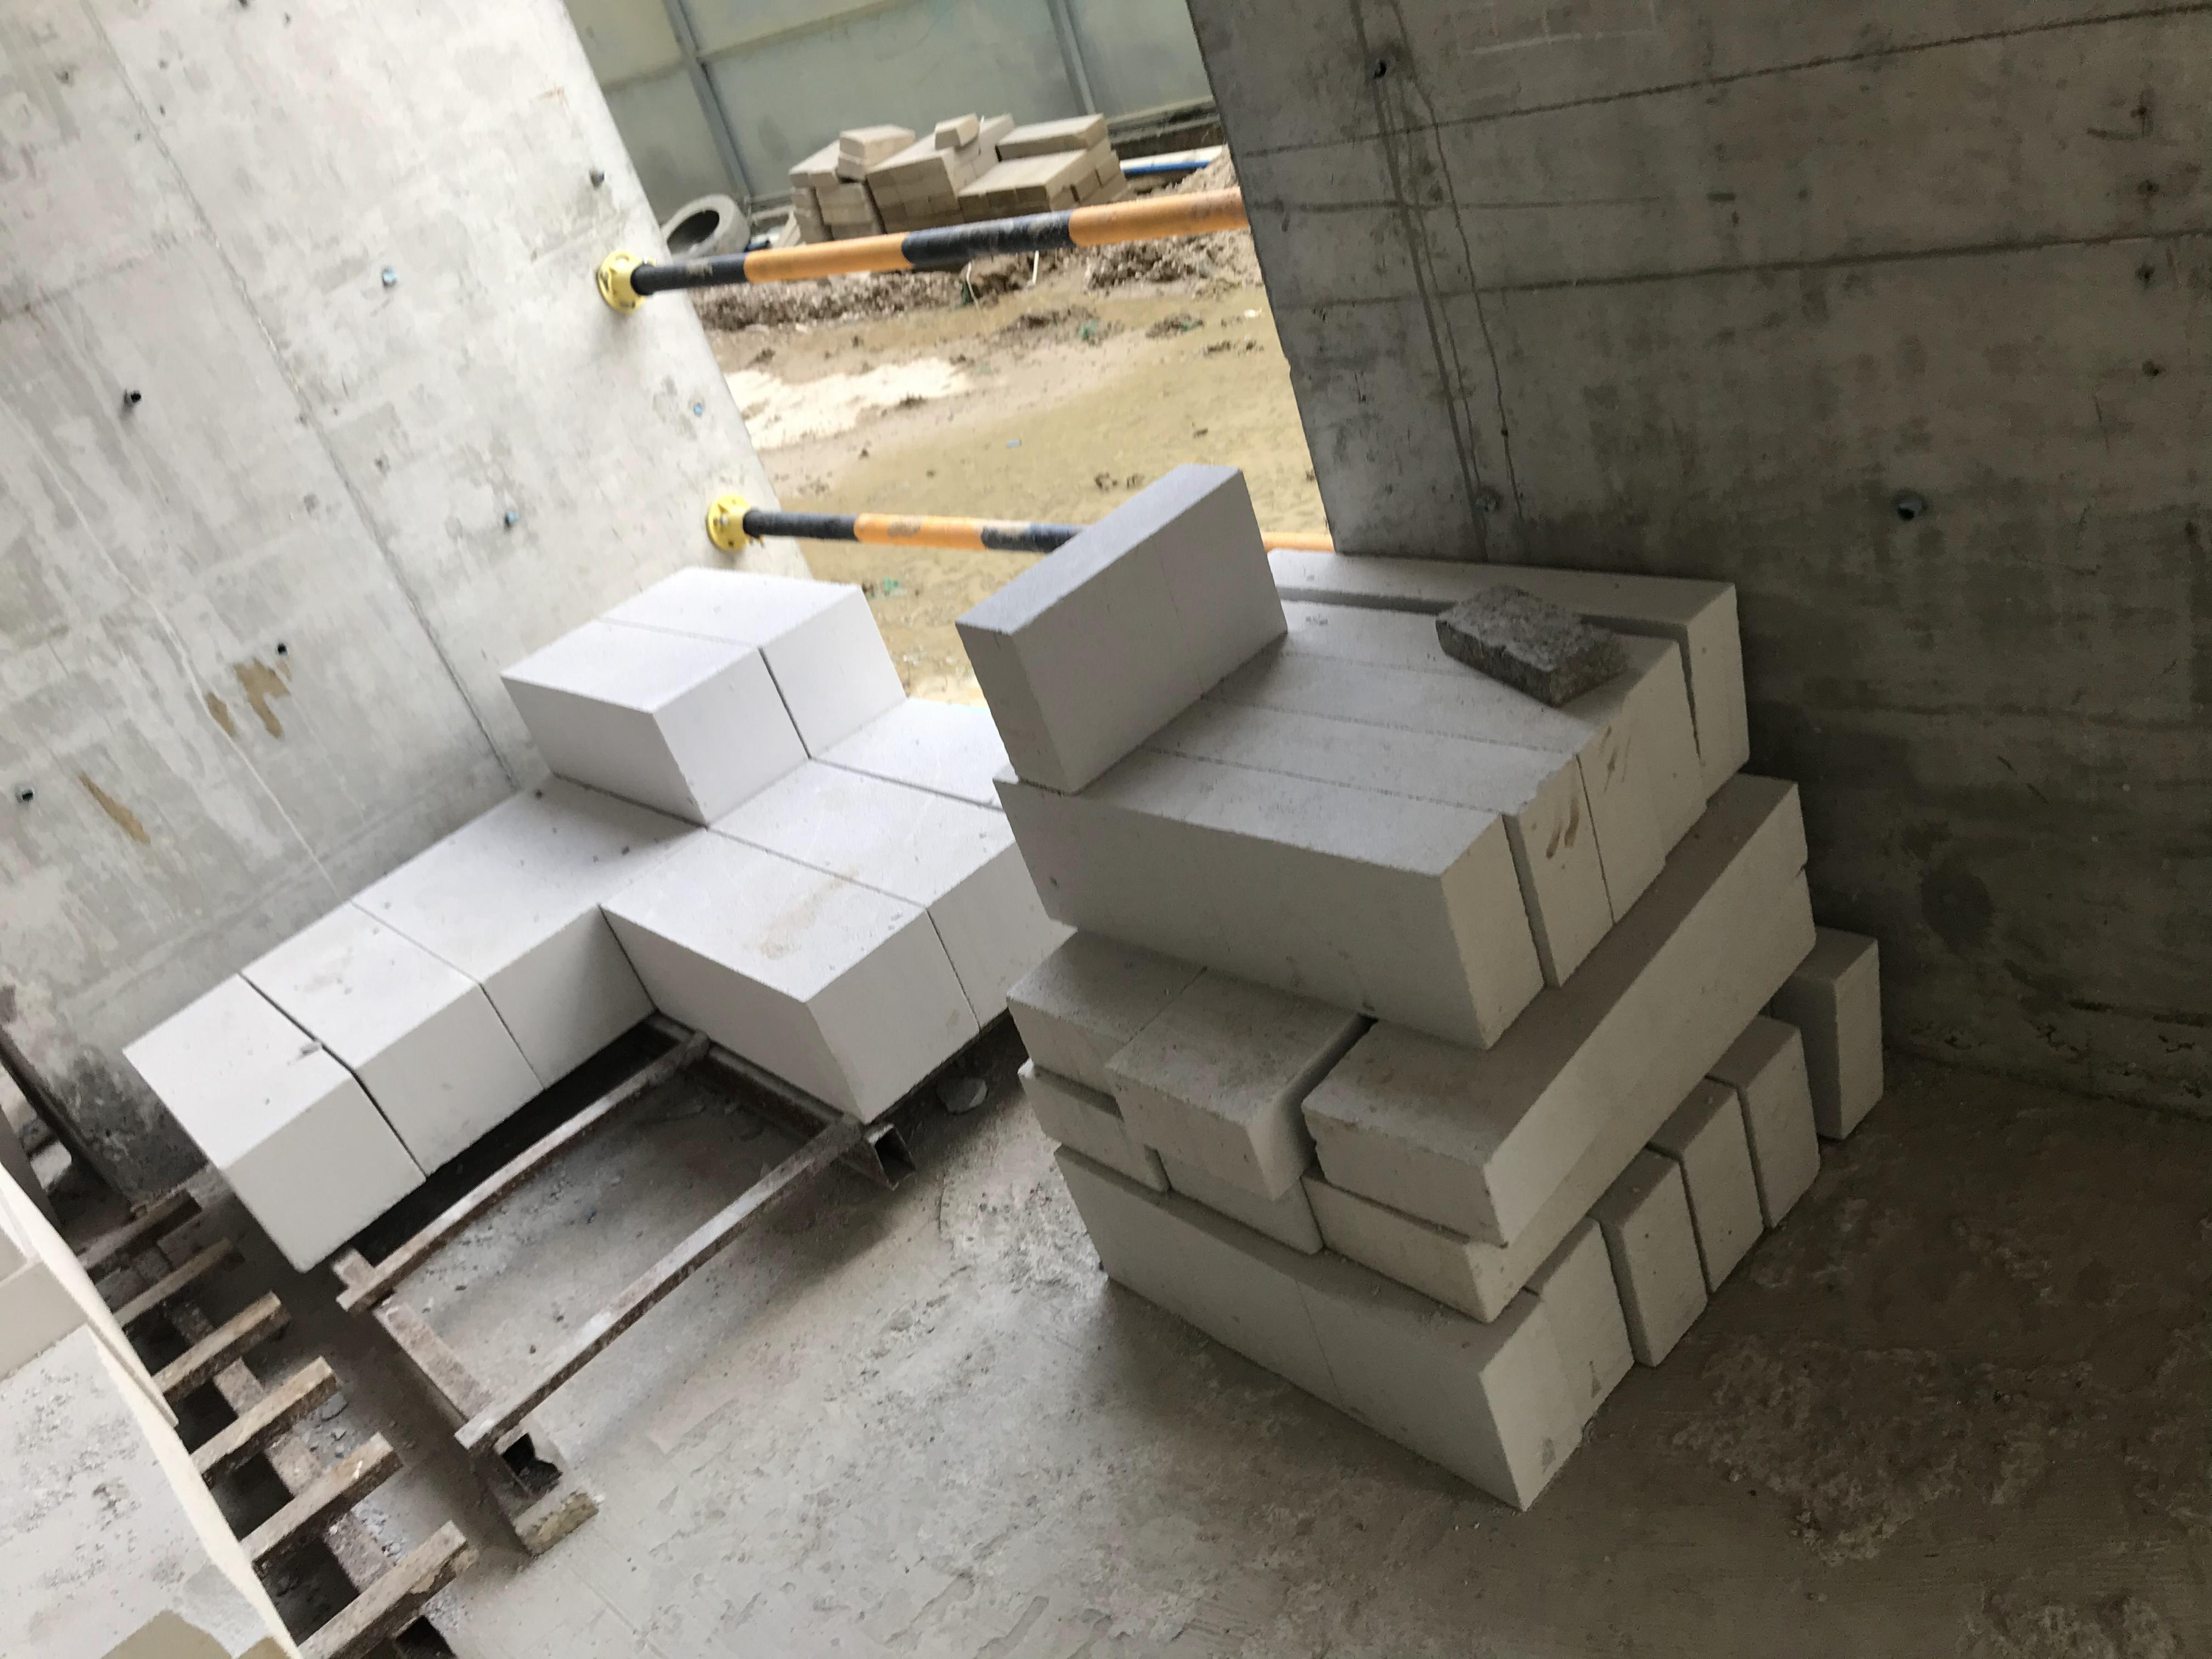brick: (961, 462, 1892, 1513), (127, 551, 1019, 1279), (0, 1169, 289, 1659), (782, 108, 1115, 227)
